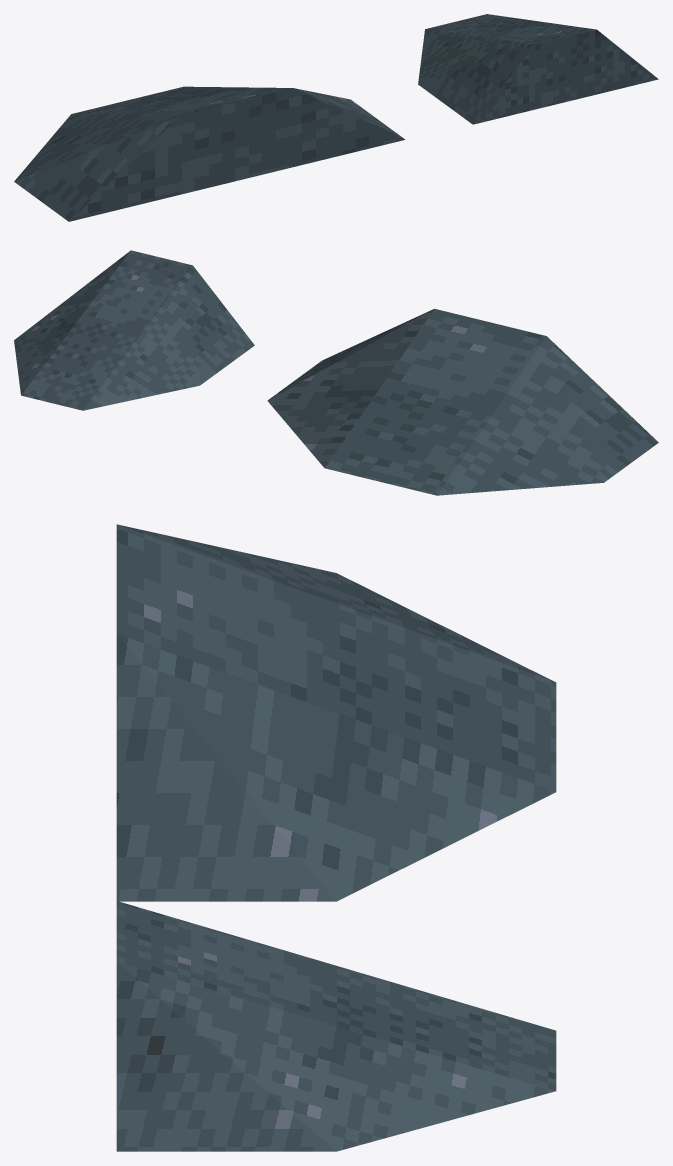
Rendered from Ramps.fbx.
The picture shows the model from 3 angles, top to bottom: view 1: azimuth 30°, elevation 25°; view 2: azimuth 150°, elevation 25°; view 3: azimuth 270°, elevation 25°; orthographic projection. The views are drawn at different scales.
Visible parts, largest first — view 1: LargeRamp, SmallRamp; view 2: LargeRamp, SmallRamp; view 3: LargeRamp, SmallRamp.
Part boxes in pixels (left/top/right/bottom): LargeRamp: left=14, top=86, right=405, bottom=221; SmallRamp: left=418, top=14, right=658, bottom=124; LargeRamp: left=267, top=308, right=658, bottom=495; SmallRamp: left=14, top=250, right=254, bottom=410; LargeRamp: left=116, top=524, right=556, bottom=901; SmallRamp: left=116, top=901, right=556, bottom=1151.
Size of the model in its own units: 719 by 232 by 93.73.
Materials: 1 (1 with a texture image).
